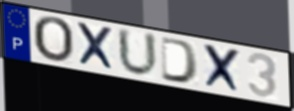3: (246, 52, 281, 101)
D: (159, 35, 201, 86)
O: (31, 15, 76, 66)
U: (115, 26, 161, 80)
X: (74, 20, 118, 73), (202, 42, 243, 97)
